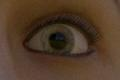eye: (41, 25, 75, 54)
